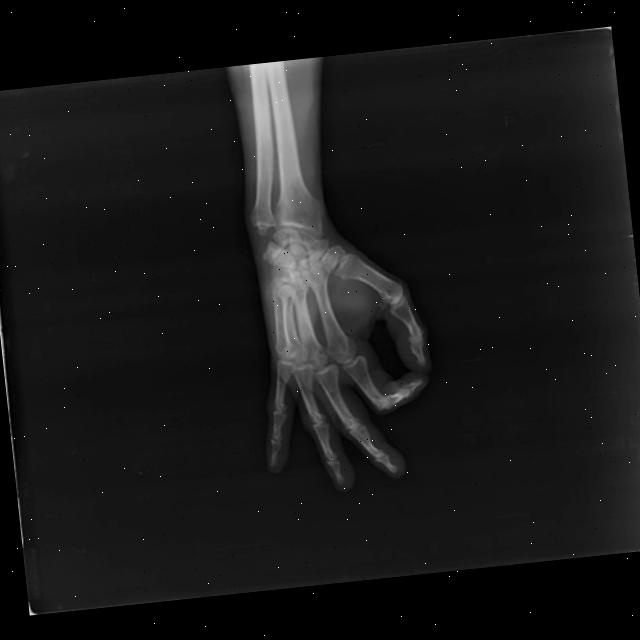Fracture: (271, 195, 326, 237)
